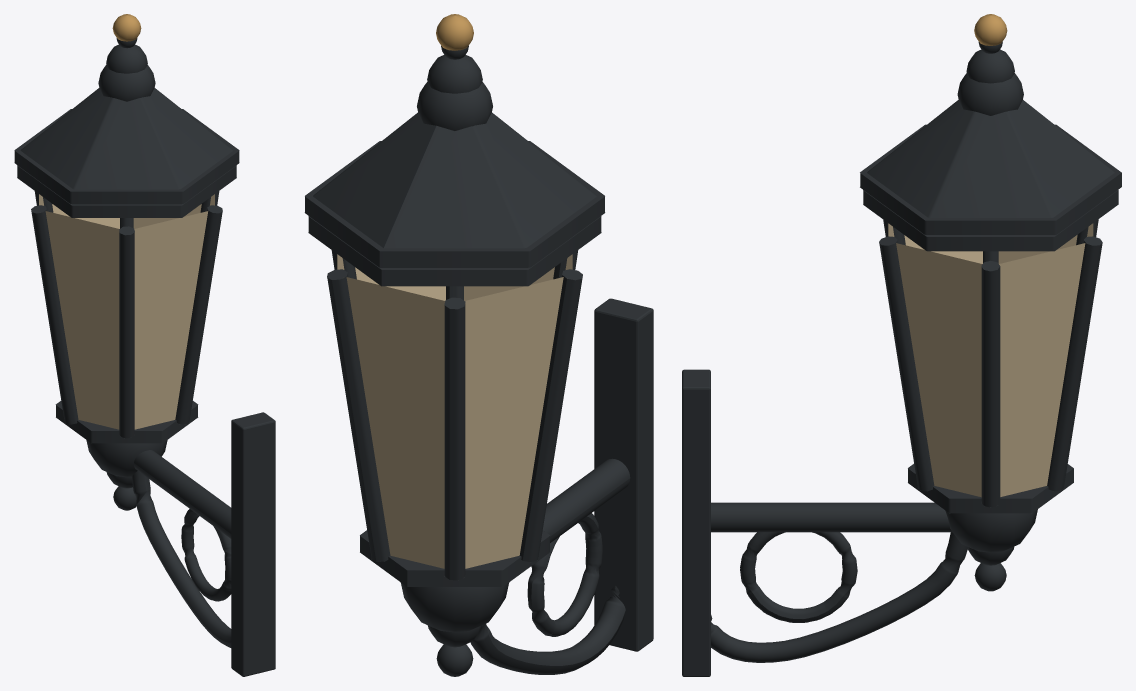
The model's file is lantern.glb.
3 renders of one model, left to right at view 1: azimuth 30°, elevation 25°; view 2: azimuth 150°, elevation 25°; view 3: azimuth 270°, elevation 25°, orthographic. The views are drawn at different scales.
Visible parts, largest first — view 1: lantern_black.006, lantern_enamel.006, lantern_brass.006; view 2: lantern_black.006, lantern_enamel.006, lantern_brass.006; view 3: lantern_black.006, lantern_enamel.006, lantern_brass.006.
Boxes of the visible parts, x1,y1,x2,y2 form: lantern_black.006: (14, 38, 275, 676); lantern_enamel.006: (39, 194, 214, 429); lantern_brass.006: (112, 14, 141, 41); lantern_black.006: (304, 45, 653, 676); lantern_enamel.006: (337, 254, 572, 568); lantern_brass.006: (436, 14, 473, 50); lantern_black.006: (682, 41, 1121, 676); lantern_enamel.006: (888, 223, 1093, 497); lantern_brass.006: (974, 14, 1007, 45).
Size of the model in its own units: 0.3996 by 1.13 by 0.6875.
